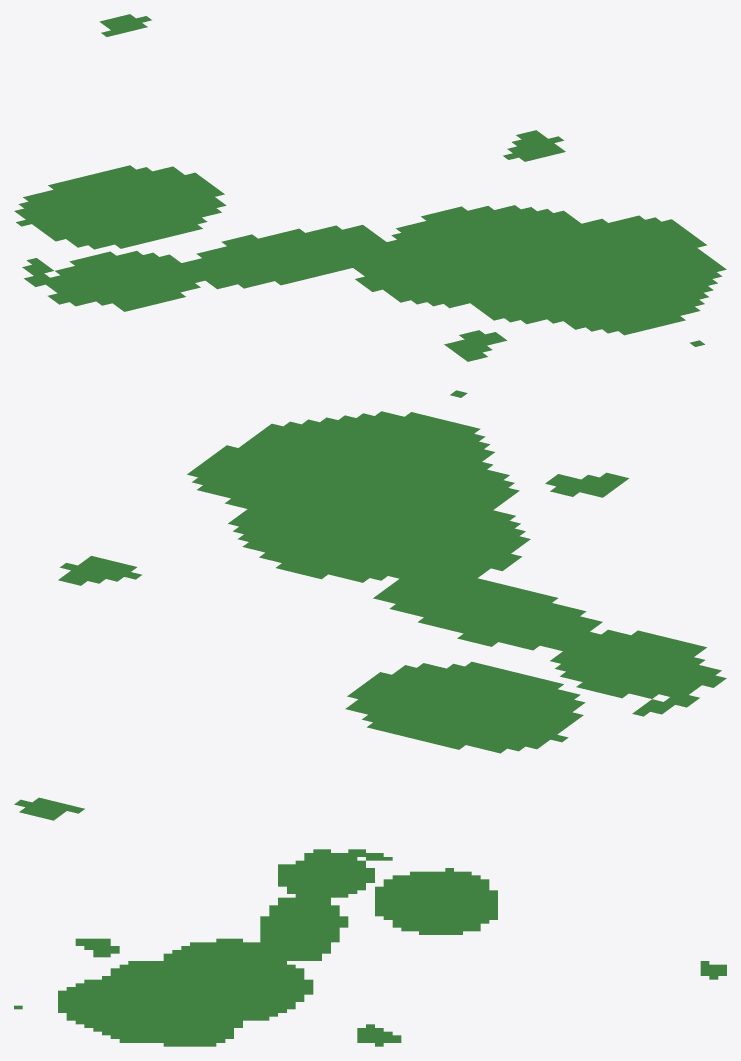
File: Isl-flat1-TreesArea.fbx
The picture shows the model from 3 angles, top to bottom: view 1: azimuth 30°, elevation 25°; view 2: azimuth 150°, elevation 25°; view 3: azimuth 270°, elevation 25°; orthographic projection. The views are drawn at different scales.
Visible parts, largest first — view 1: Isl-flat1-TreesArea; view 2: Isl-flat1-TreesArea; view 3: Isl-flat1-TreesArea.
Boxes of the visible parts, <box> form: Isl-flat1-TreesArea: <box>14,14,726,361</box>; Isl-flat1-TreesArea: <box>14,390,726,820</box>; Isl-flat1-TreesArea: <box>14,849,726,1046</box>.
Size of the model in its own units: 53 by 0 by 81.
